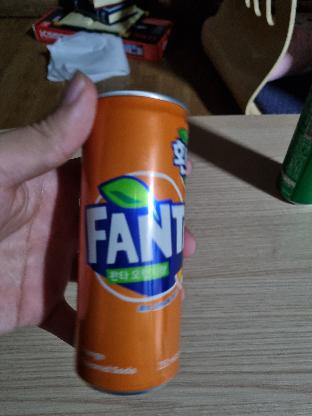Can: (68, 84, 189, 398)
